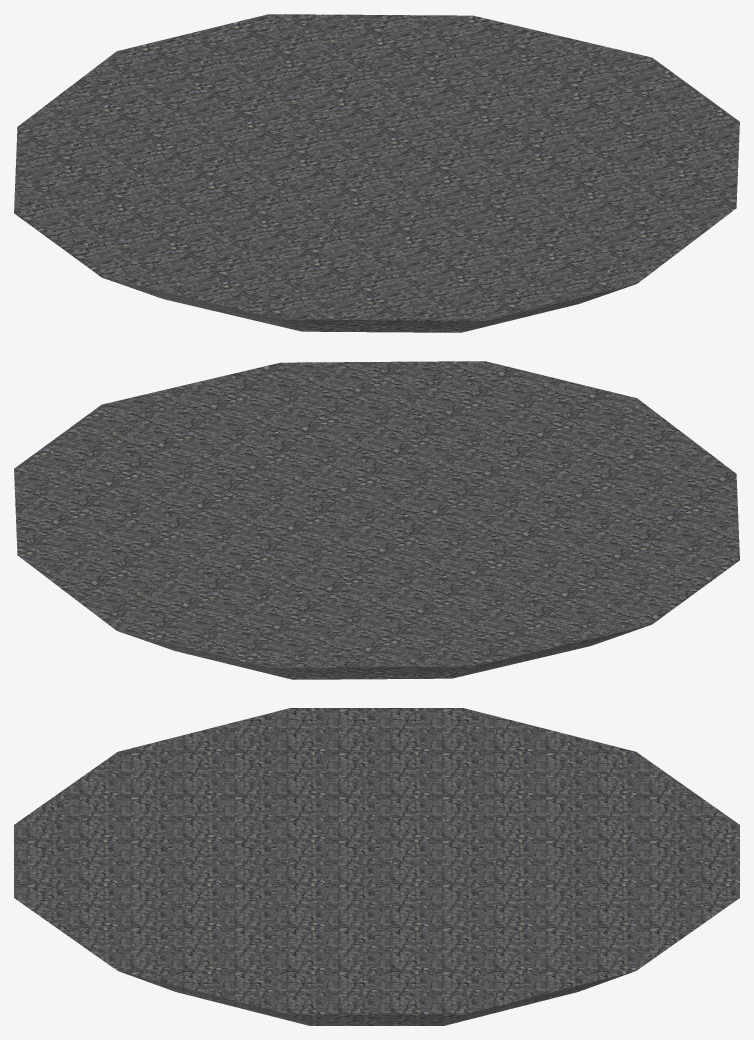
File: mapparts1.fbx
3 renders of one model, top to bottom at view 1: azimuth 30°, elevation 25°; view 2: azimuth 150°, elevation 25°; view 3: azimuth 270°, elevation 25°, orthographic.
Visible parts, largest first — view 1: Box001; view 2: Box001; view 3: Box001.
Boxes of the visible parts, box(x1,y1,x2,y2) form: Box001: box(14, 14, 739, 332); Box001: box(14, 361, 739, 679); Box001: box(14, 708, 739, 1025).
Bounding box in the file's own units: 700 × 81.73 × 700.
Materials: 1 (1 with a texture image).
